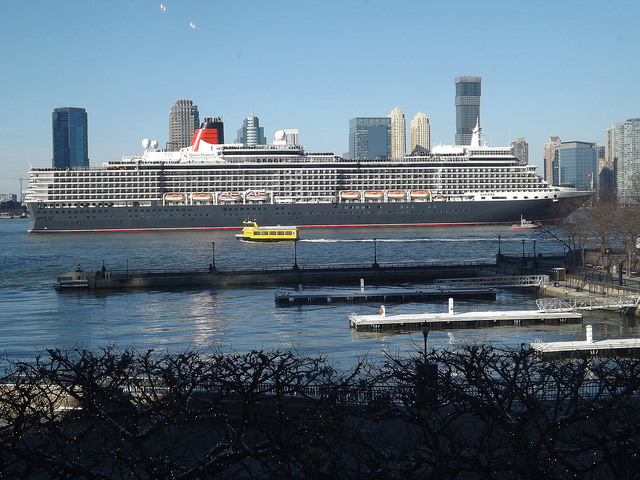boat: (231, 215, 298, 243), (512, 211, 542, 229)
cruise_ship: (24, 113, 594, 232)
